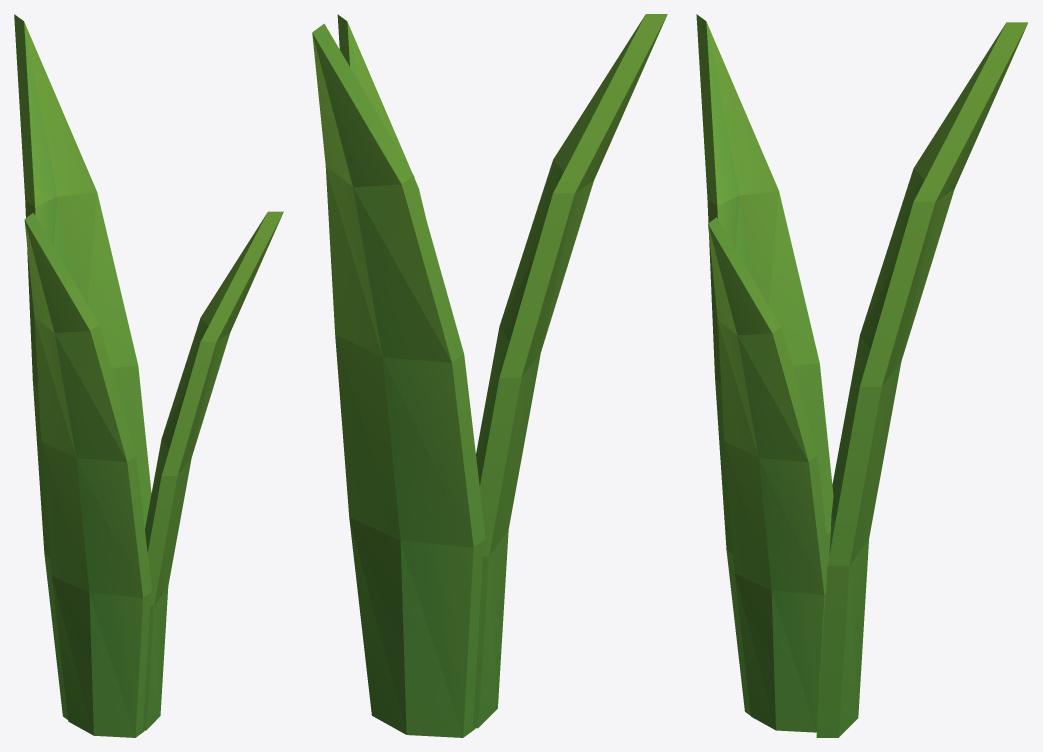
The model's file is kf_grass_2_b.fbx.
3 views of the same model, side by side, from view 1: azimuth 30°, elevation 25°; view 2: azimuth 150°, elevation 25°; view 3: azimuth 270°, elevation 25° (orthographic). The views are drawn at different scales.
Visible parts, largest first — view 1: kf_grass_2_b; view 2: kf_grass_2_b; view 3: kf_grass_2_b.
Part boxes in pixels (<box>): kf_grass_2_b: <box>14,14,283,737</box>; kf_grass_2_b: <box>312,14,667,737</box>; kf_grass_2_b: <box>696,14,1028,737</box>.
Size of the model in its own units: 0.5649 by 1.29 by 0.5563.
